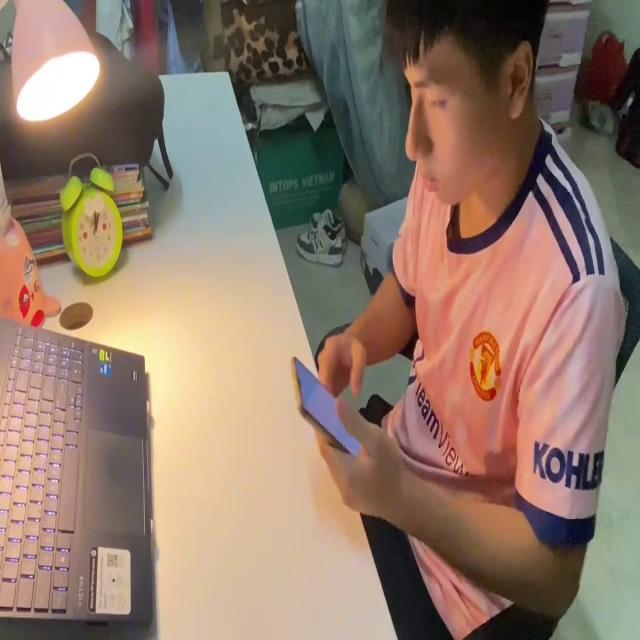laptop: (0, 315, 154, 630)
phone: (290, 351, 369, 462)
student: (311, 0, 622, 640)
